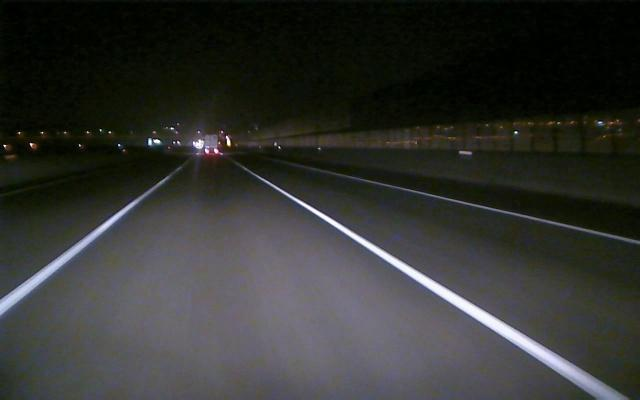lane: (254, 176, 625, 396), (334, 172, 640, 246), (3, 180, 165, 314)
